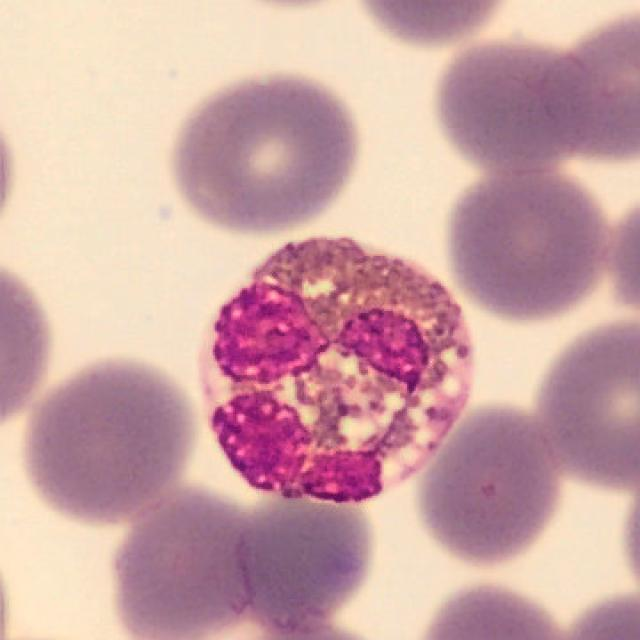Eosinofilo: (199, 236, 475, 505)
